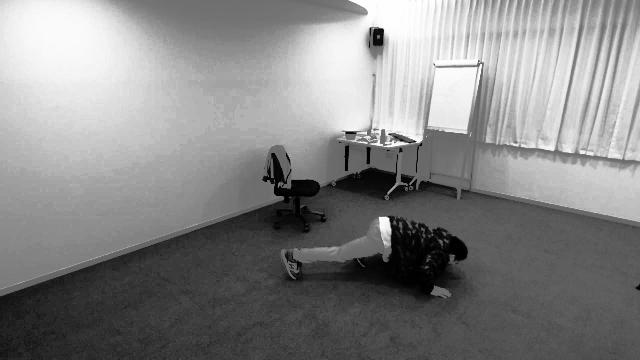jatuh: (276, 212, 468, 304)
